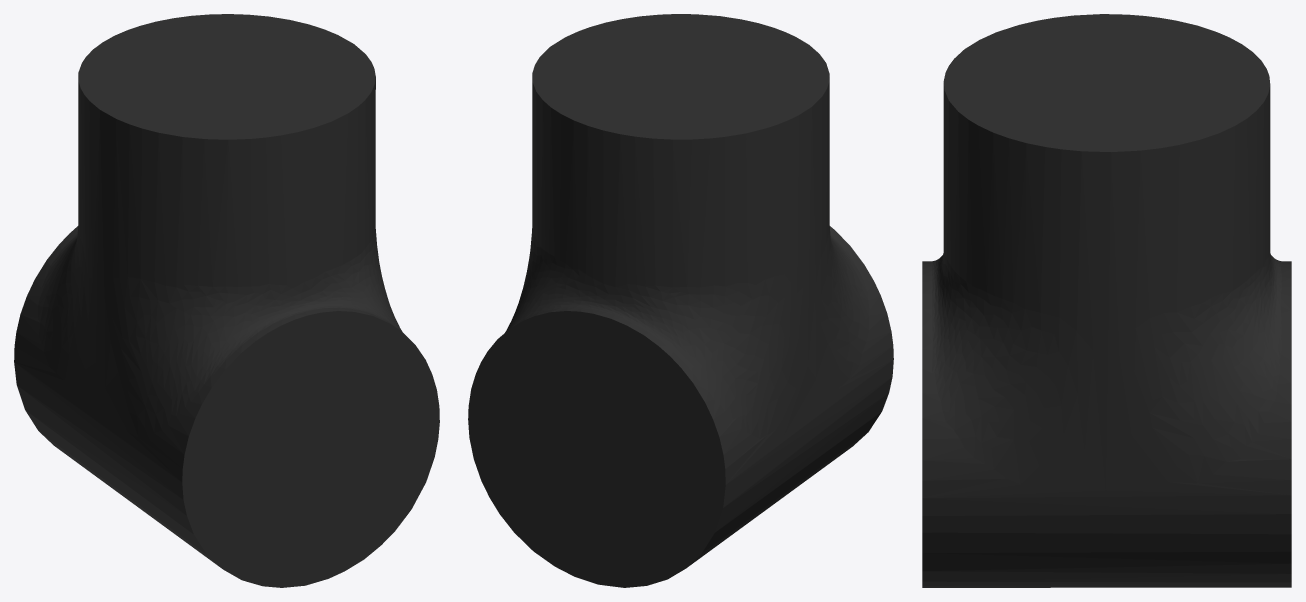
The model's file is torso3.obj.
The picture shows the model from 3 angles, left to right: view 1: azimuth 30°, elevation 25°; view 2: azimuth 150°, elevation 25°; view 3: azimuth 270°, elevation 25°; orthographic projection. The views are drawn at different scales.
Parts seen in each view (by area): view 1: body3_002-mesh; view 2: body3_002-mesh; view 3: body3_002-mesh.
Boxes of the visible parts, left/top/right/bottom form: body3_002-mesh: left=14, top=14, right=439, bottom=587; body3_002-mesh: left=468, top=14, right=893, bottom=587; body3_002-mesh: left=922, top=14, right=1291, bottom=587.
Size of the model in its own units: 0.1302 by 0.2151 by 0.147.
Materials: 1 (1 with a texture image).
